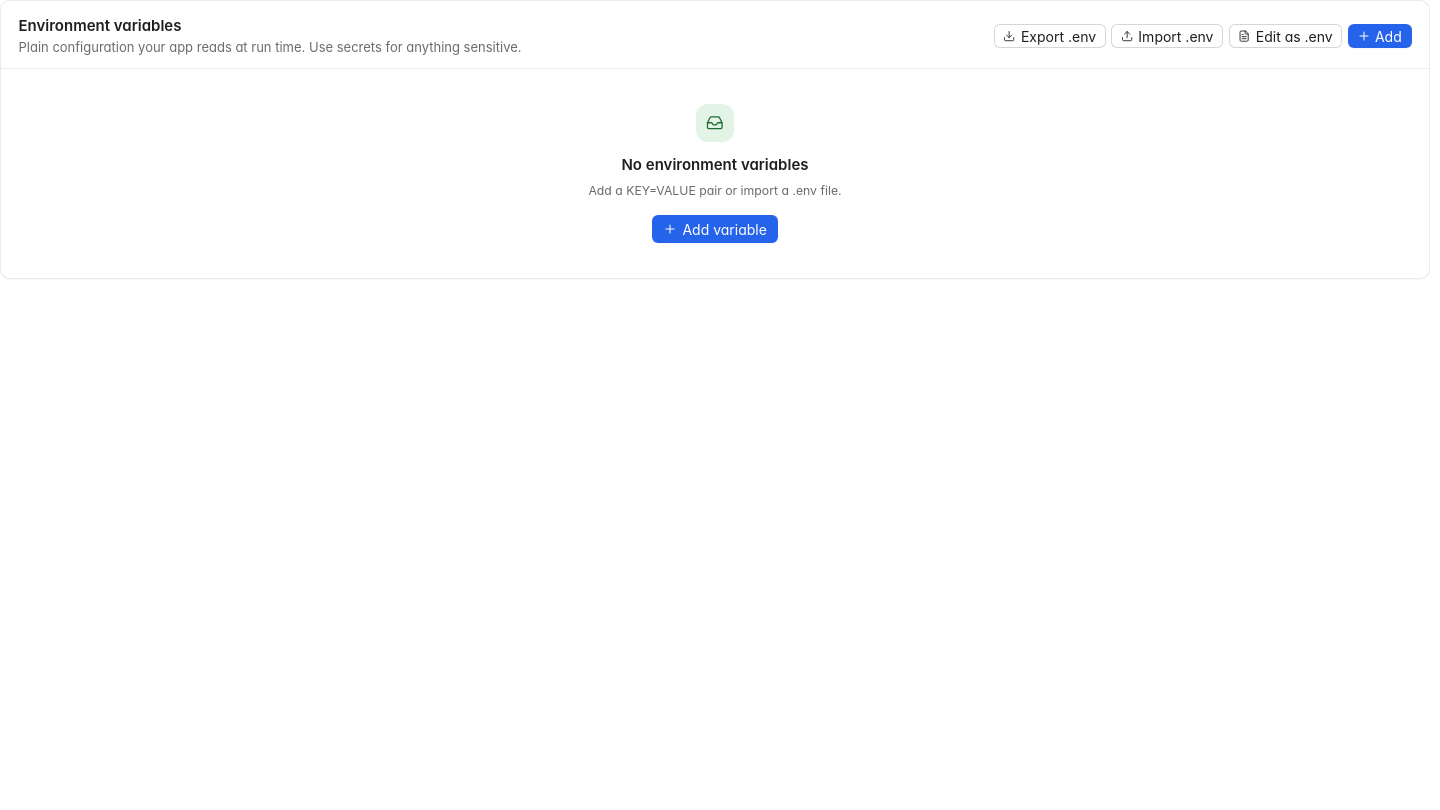
Scenario: EnvEditor › rejects an invalid key before saving
The width and height of the screenshot is (1440, 810).
Click the button "Add variable".
click(715, 229)  # box top-left (652, 215), bottom-right (778, 243)
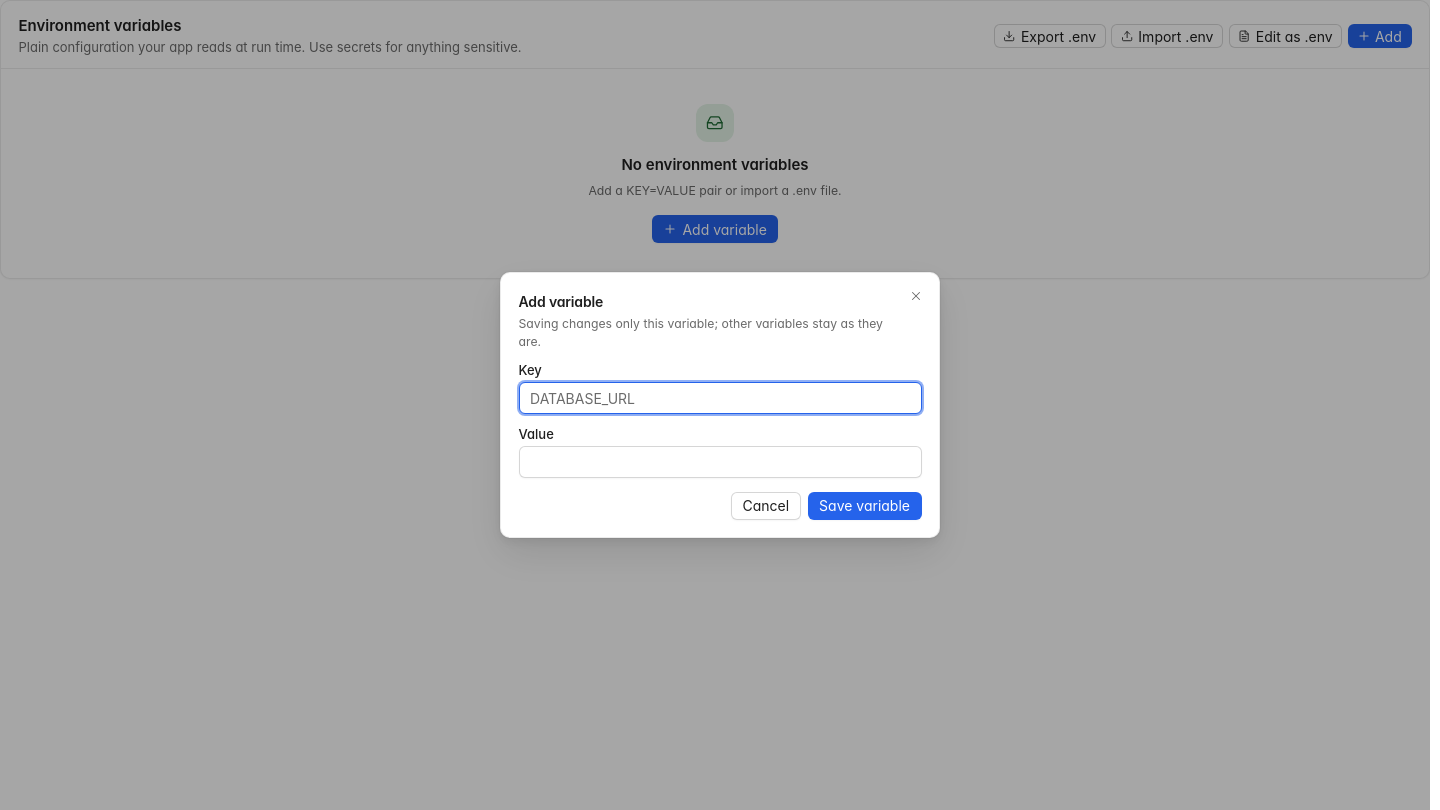
Type "1bad" into the field labelled "Key".
click(720, 398); type("1bad")  # box top-left (518, 382), bottom-right (922, 414)
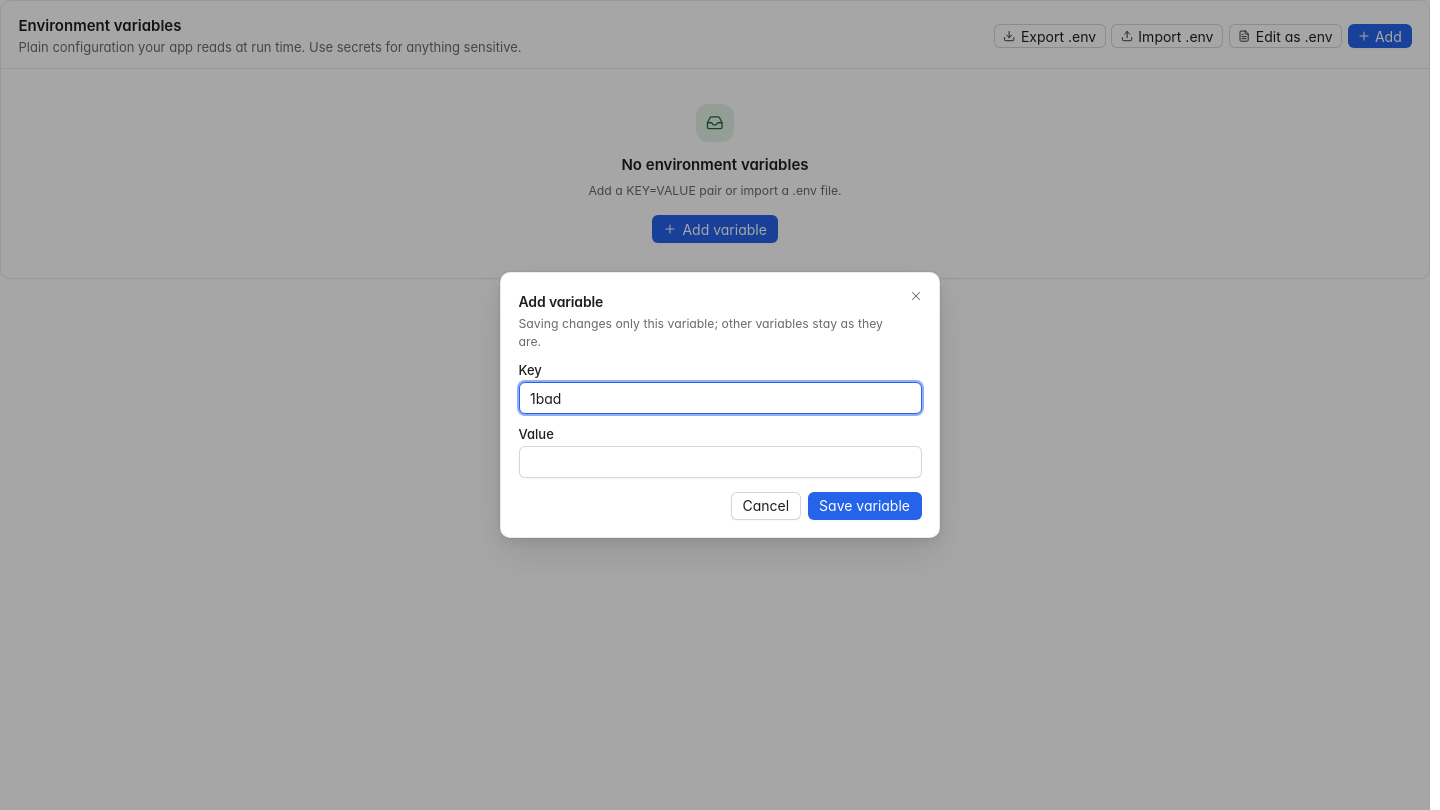
Click the button "Save variable".
click(865, 506)  # box top-left (808, 492), bottom-right (922, 520)
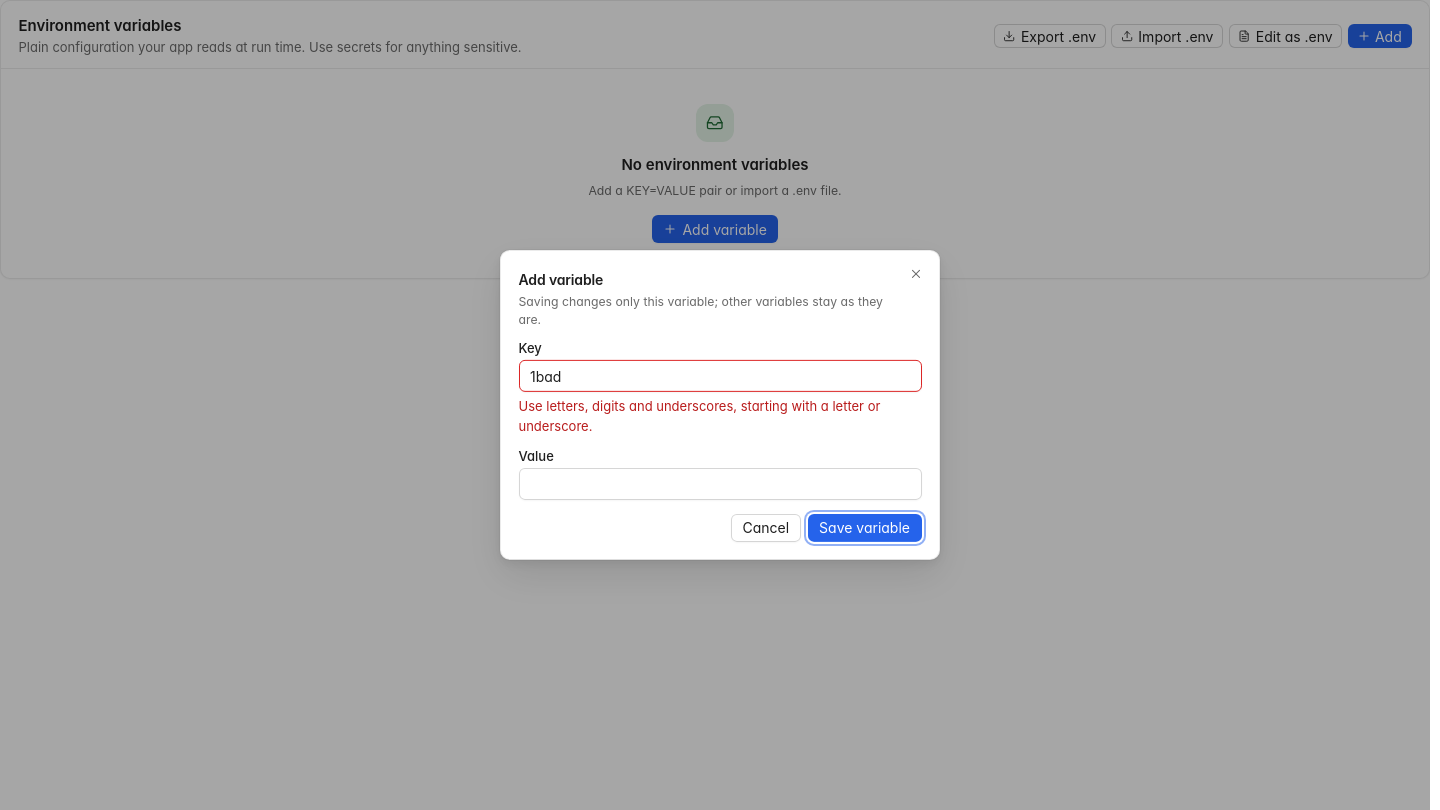
Check: the message shows "letters, digits and underscores", box top-left (518, 398), bottom-right (880, 433)
